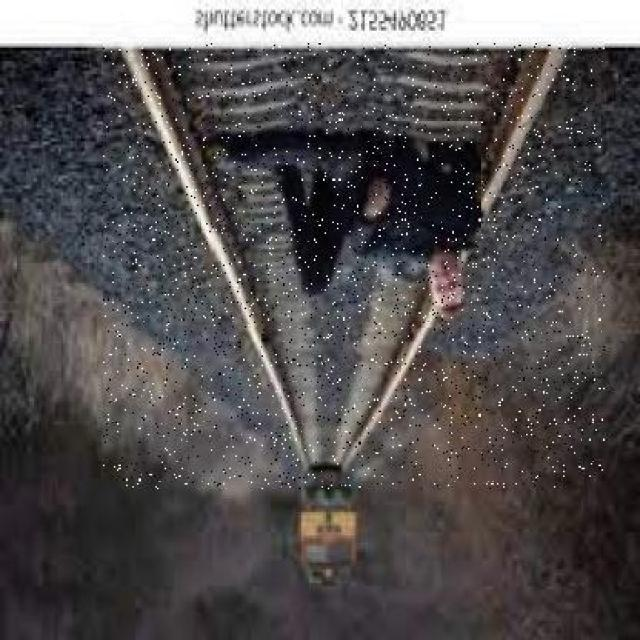danger: (212, 120, 480, 326), (283, 459, 365, 591)
rail: (105, 43, 605, 489)
